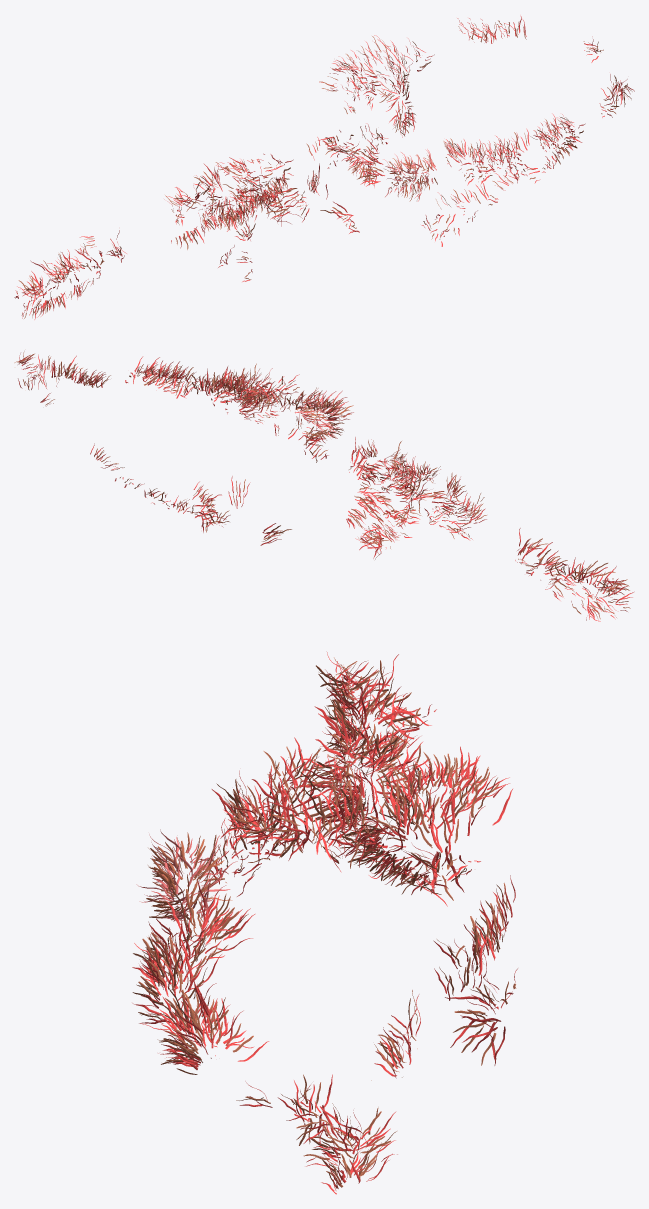
Rendered from whaleSkeleton_zombieWorms.fbx.
3 renders of one model, top to bottom at view 1: azimuth 30°, elevation 25°; view 2: azimuth 150°, elevation 25°; view 3: azimuth 270°, elevation 25°, orthographic. The views are drawn at different scales.
Parts seen in each view (by area): view 1: zombieWorms_body; view 2: zombieWorms_body; view 3: zombieWorms_body.
Part boxes in pixels (x1,y1,x2,y2): zombieWorms_body: (14,15,634,319); zombieWorms_body: (14,351,634,621); zombieWorms_body: (132,651,517,1194).
Size of the model in its own units: 34.69 by 9.89 by 9.56.
